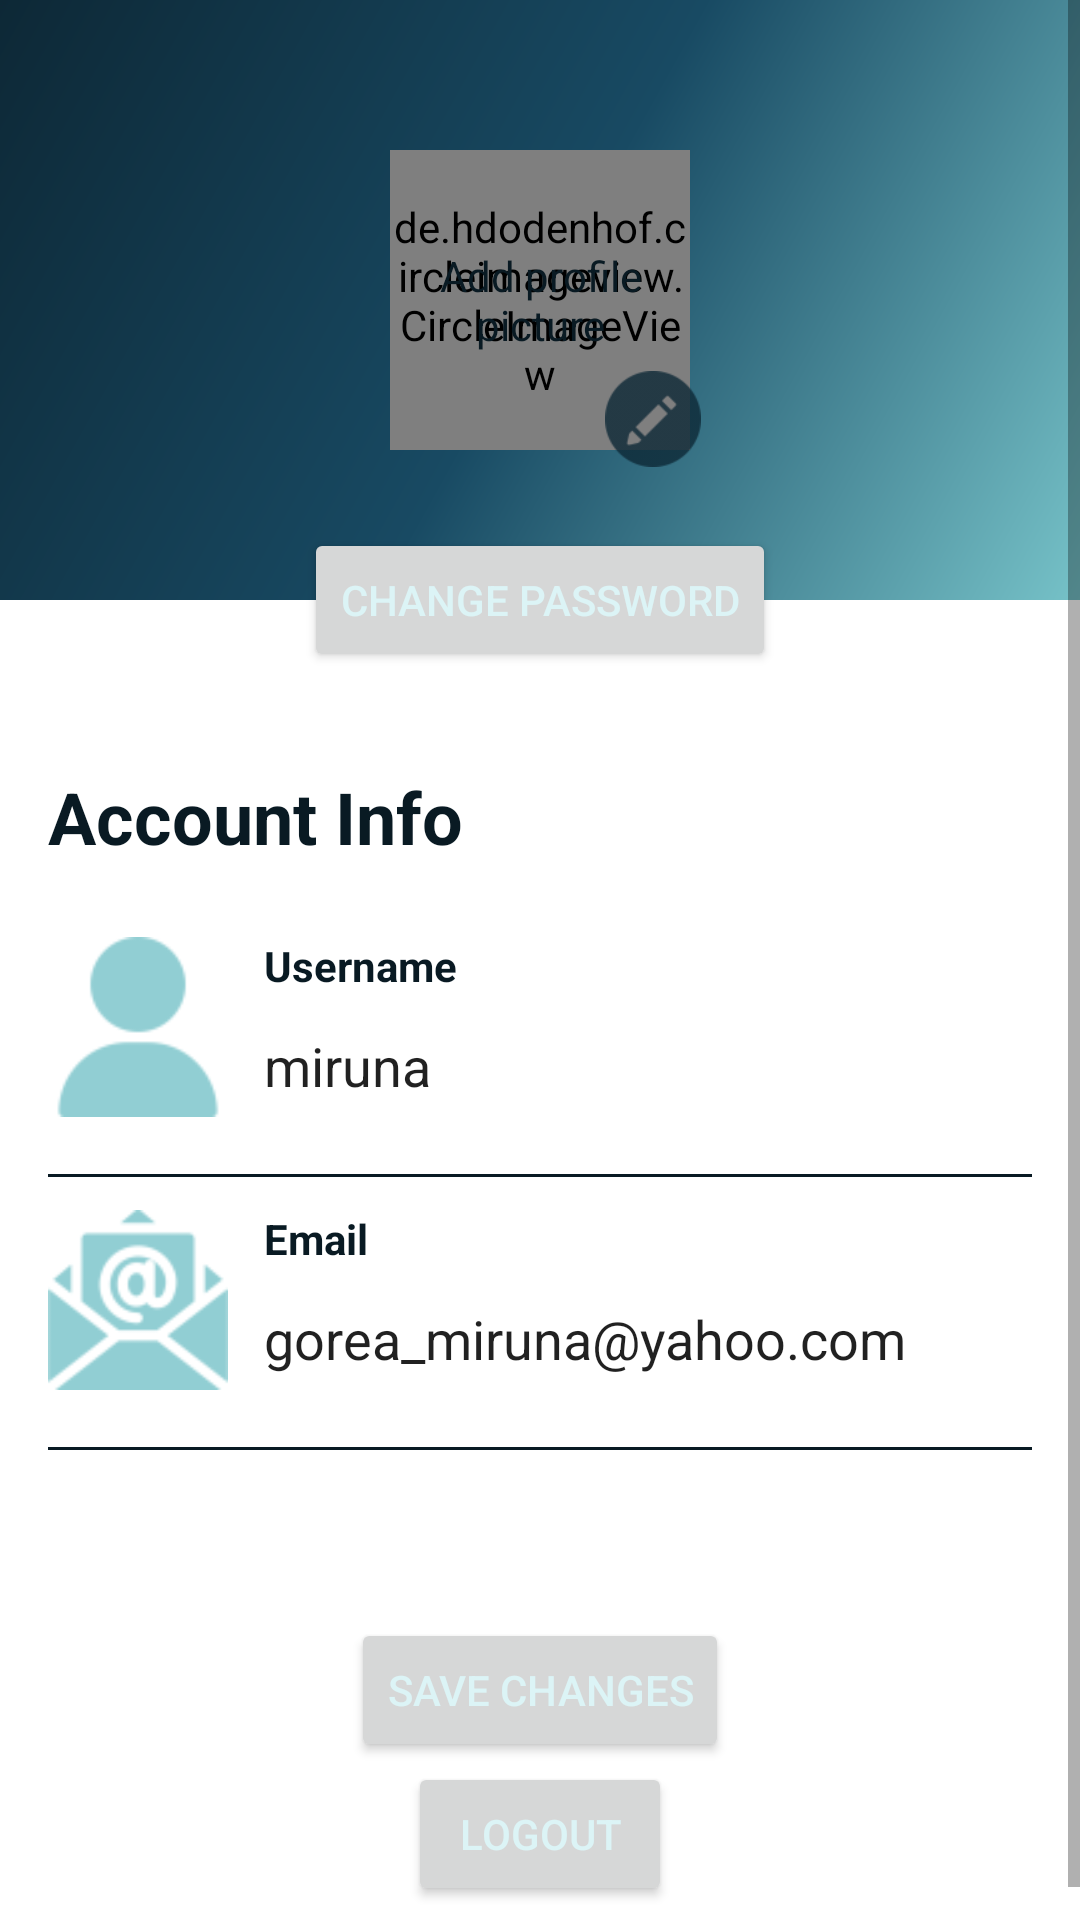

Icons on this 1080 x 1920 Android screen, each with the point to tap as (x,y):
profile: (138,1027)
